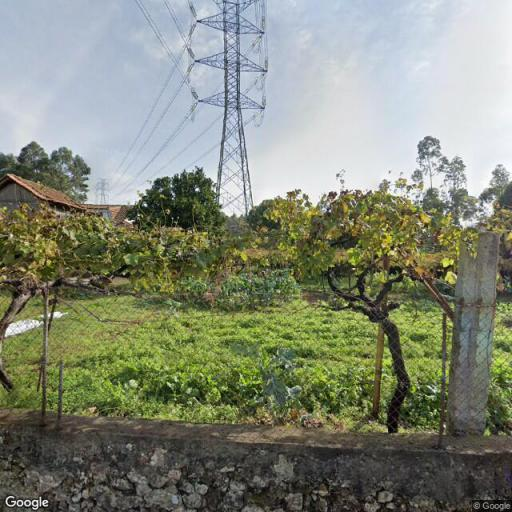ss_3: (192, 0, 270, 220), (94, 176, 110, 206)
